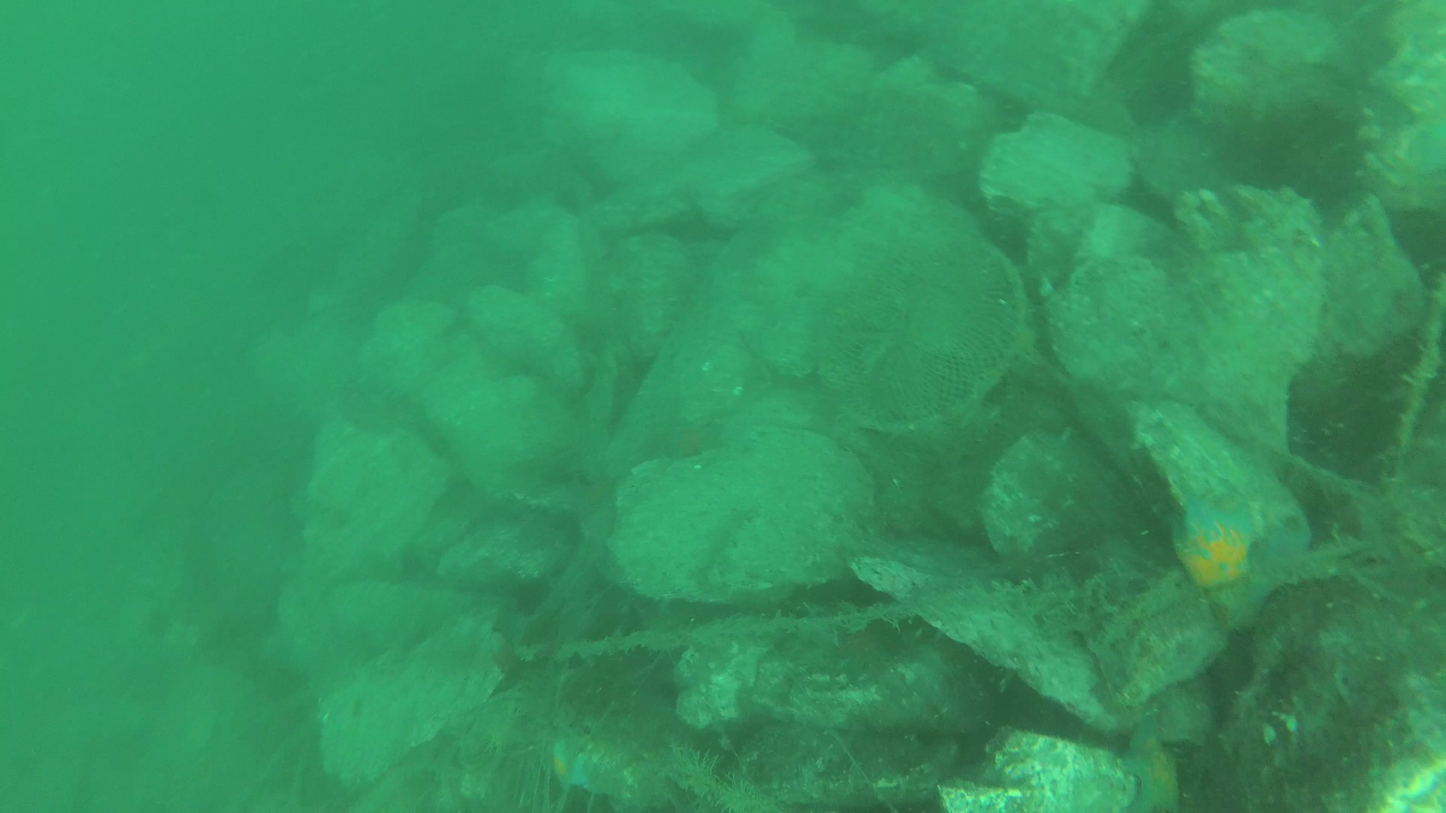holothurian: (1160, 493, 1266, 593), (1109, 713, 1185, 813), (526, 745, 603, 806)
